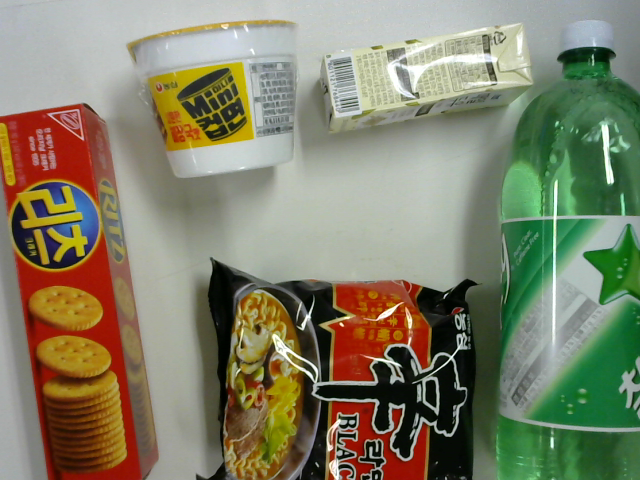99.89_Soymilk: (319, 20, 531, 138)
Chilseong_Cider_1.5L: (497, 12, 640, 479)
Hejangmini: (125, 18, 307, 182)
Ritz_Cracker: (7, 104, 163, 480)
Sinramen_Black: (189, 250, 479, 480)
